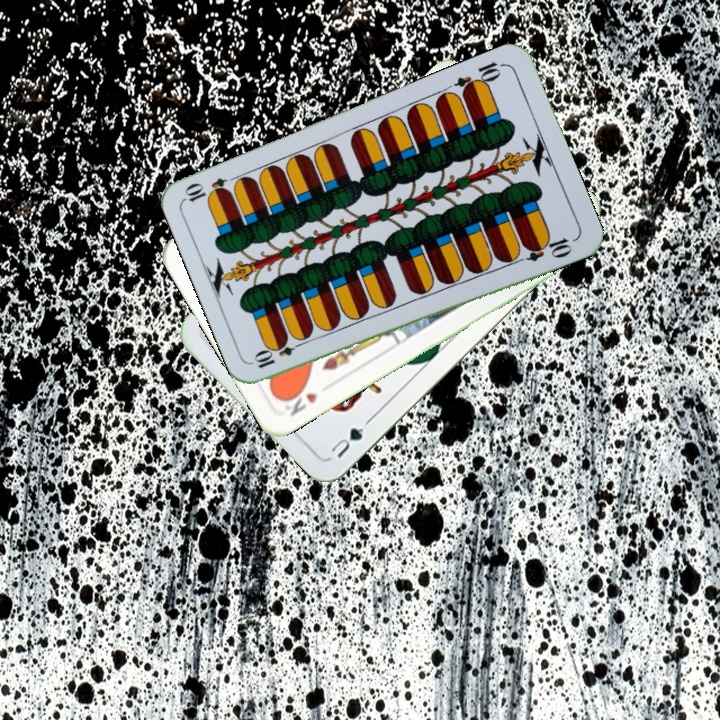E10: (451, 57, 507, 98), (250, 335, 308, 372)
GU: (324, 415, 373, 461)
HK: (278, 382, 321, 419)
